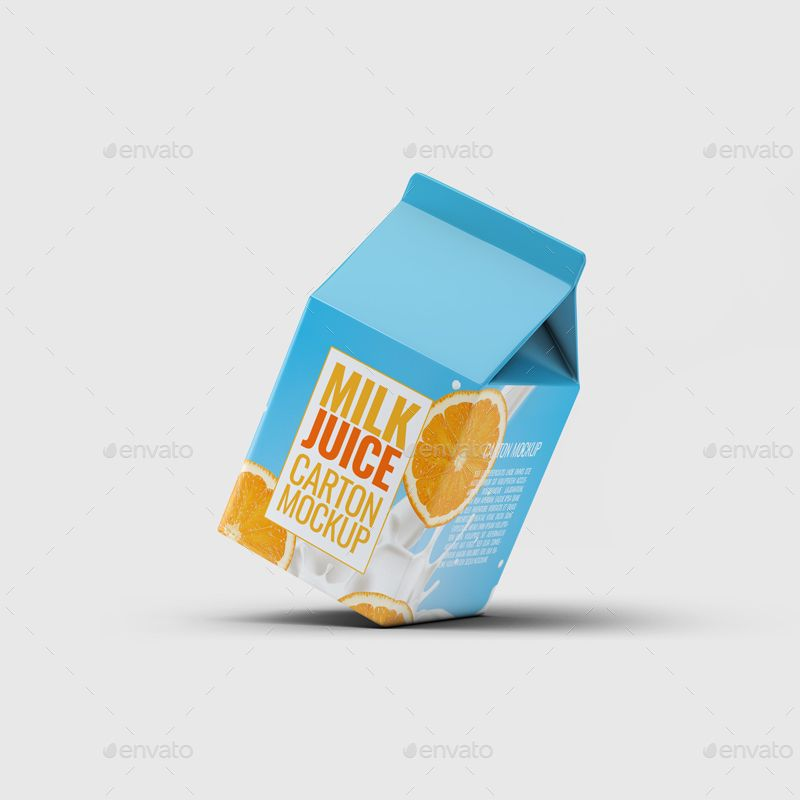carton: (205, 95, 628, 690)
